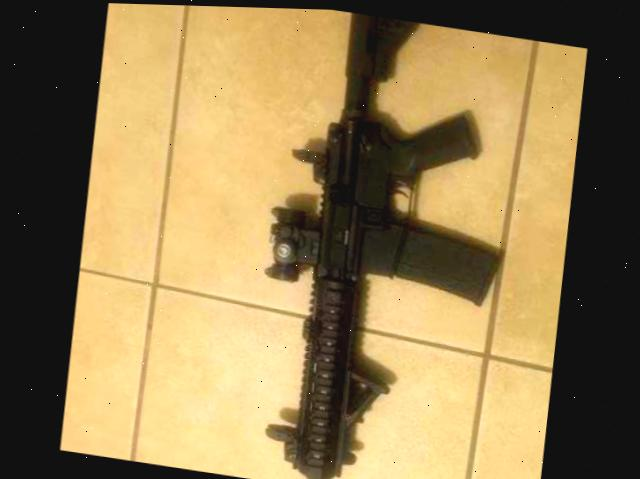rifle: (237, 6, 530, 479)
